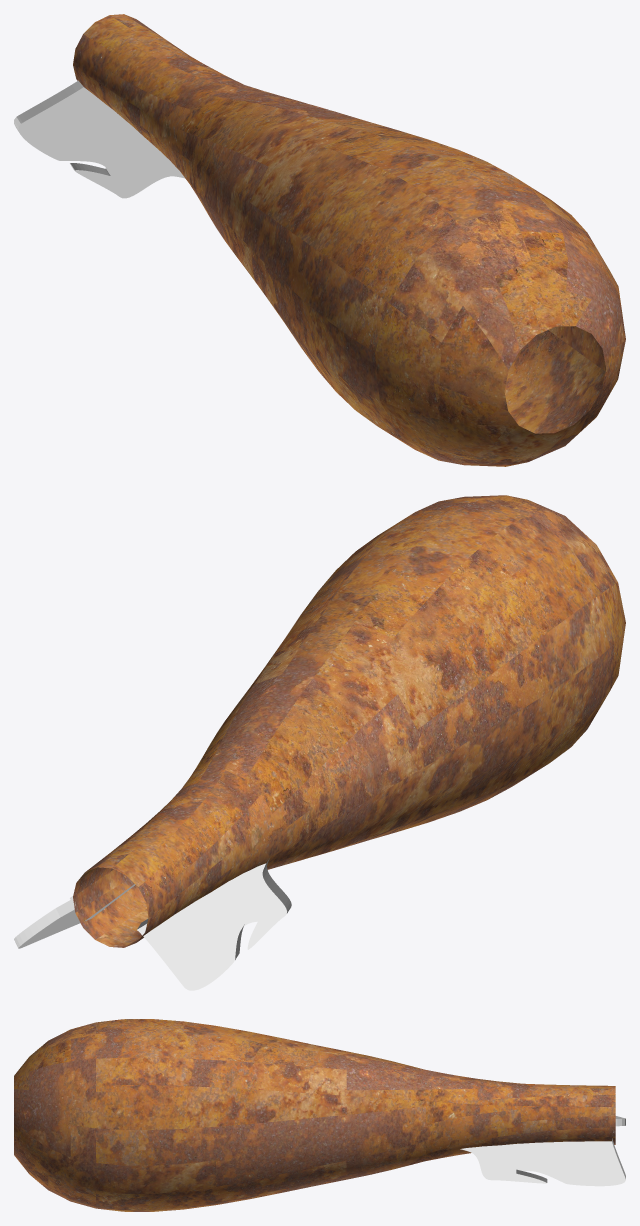
Rendered from mina.glb.
3 renders of one model, top to bottom at view 1: azimuth 30°, elevation 25°; view 2: azimuth 150°, elevation 25°; view 3: azimuth 270°, elevation 25°, orthographic. The views are drawn at different scales.
Visible parts, largest first — view 1: BezierCurve.004, BezierCurve.002; view 2: BezierCurve.004, BezierCurve.002, BezierCurve.003; view 3: BezierCurve.004, BezierCurve.003.
Part boxes in pixels (<box>): BezierCurve.004: <box>73,14,625,466</box>; BezierCurve.002: <box>14,80,184,198</box>; BezierCurve.004: <box>73,495,625,947</box>; BezierCurve.002: <box>137,858,291,990</box>; BezierCurve.003: <box>14,884,135,948</box>; BezierCurve.004: <box>14,1019,615,1211</box>; BezierCurve.003: <box>460,1138,625,1186</box>.
Size of the model in its own units: 1.5 by 1.5 by 4.74.
Materials: 1 (1 with a texture image).
